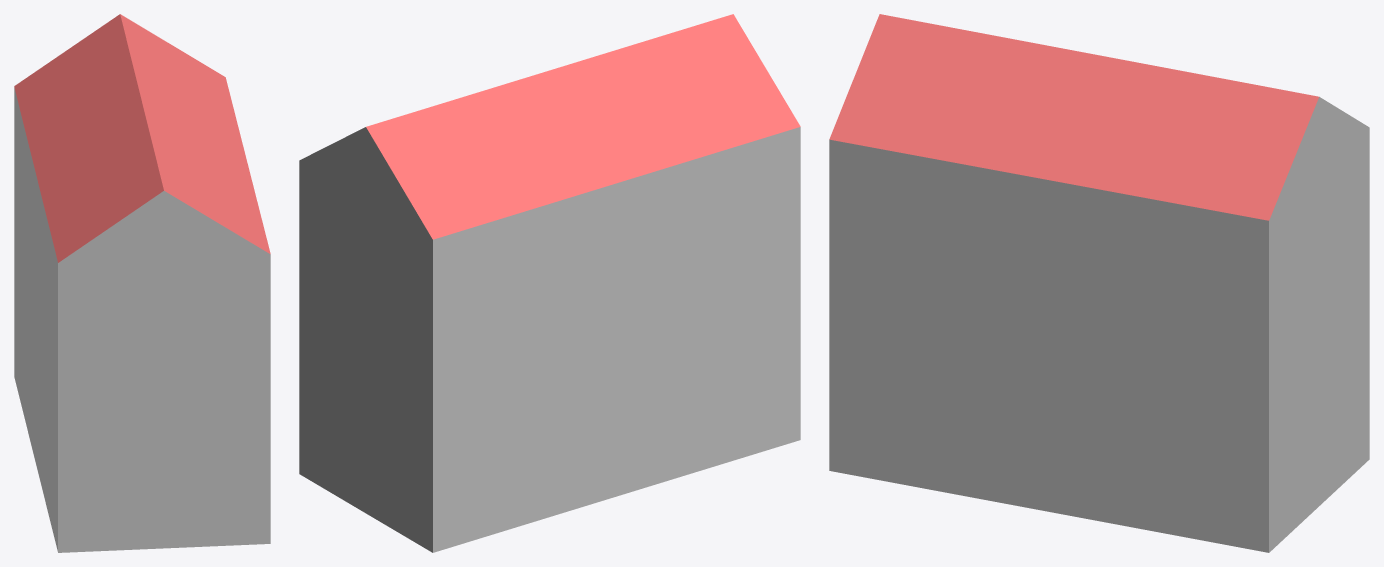
Rendered from DEBY_LOD2_4907024.gltf.
The picture shows the model from 3 angles, left to right: view 1: azimuth 30°, elevation 25°; view 2: azimuth 150°, elevation 25°; view 3: azimuth 270°, elevation 25°; orthographic projection. The views are drawn at different scales.
Visible parts, largest first — view 1: Z_UP; view 2: Z_UP; view 3: Z_UP.
Boxes of the visible parts, x1=… form: Z_UP: x1=14, y1=14, x2=270, y2=552; Z_UP: x1=299, y1=14, x2=800, y2=552; Z_UP: x1=829, y1=14, x2=1369, y2=552.
Bounding box in the file's own units: 20.71 × 22.42 × 26.81.
